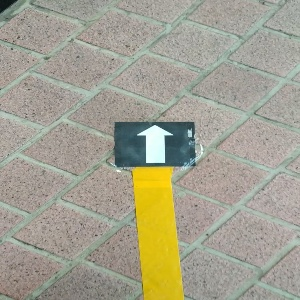straight: (114, 121, 196, 167)
